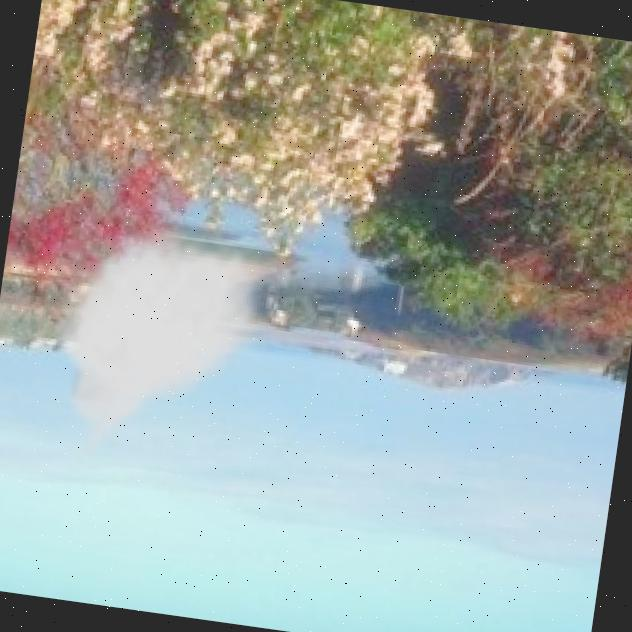smoke: (33, 208, 284, 495)
